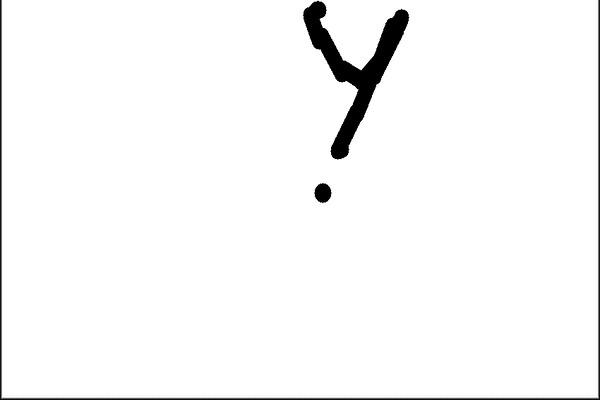Y: (291, 0, 423, 162)
